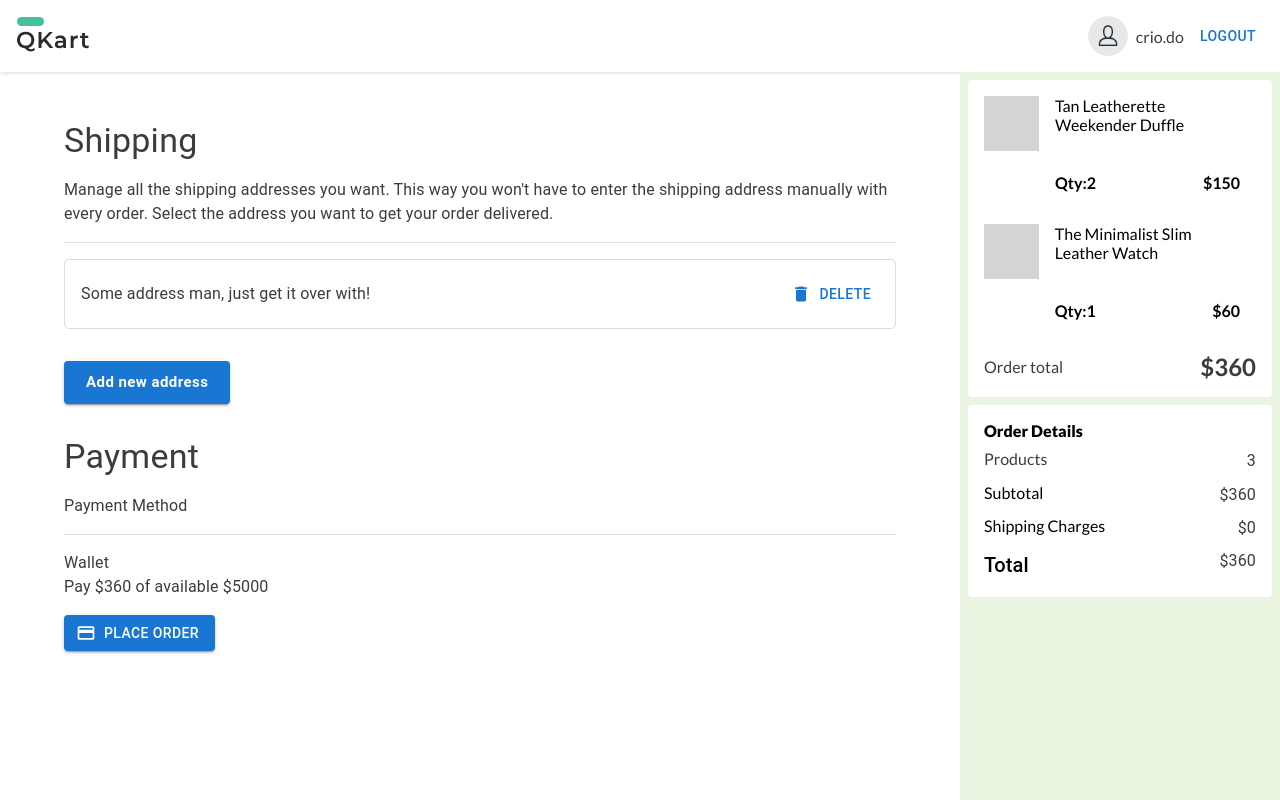
Test: Checkout Page › should show error message if low balance
Click the text "Some address man, just get it over with!" at [226, 294], box [81,282,370,306]
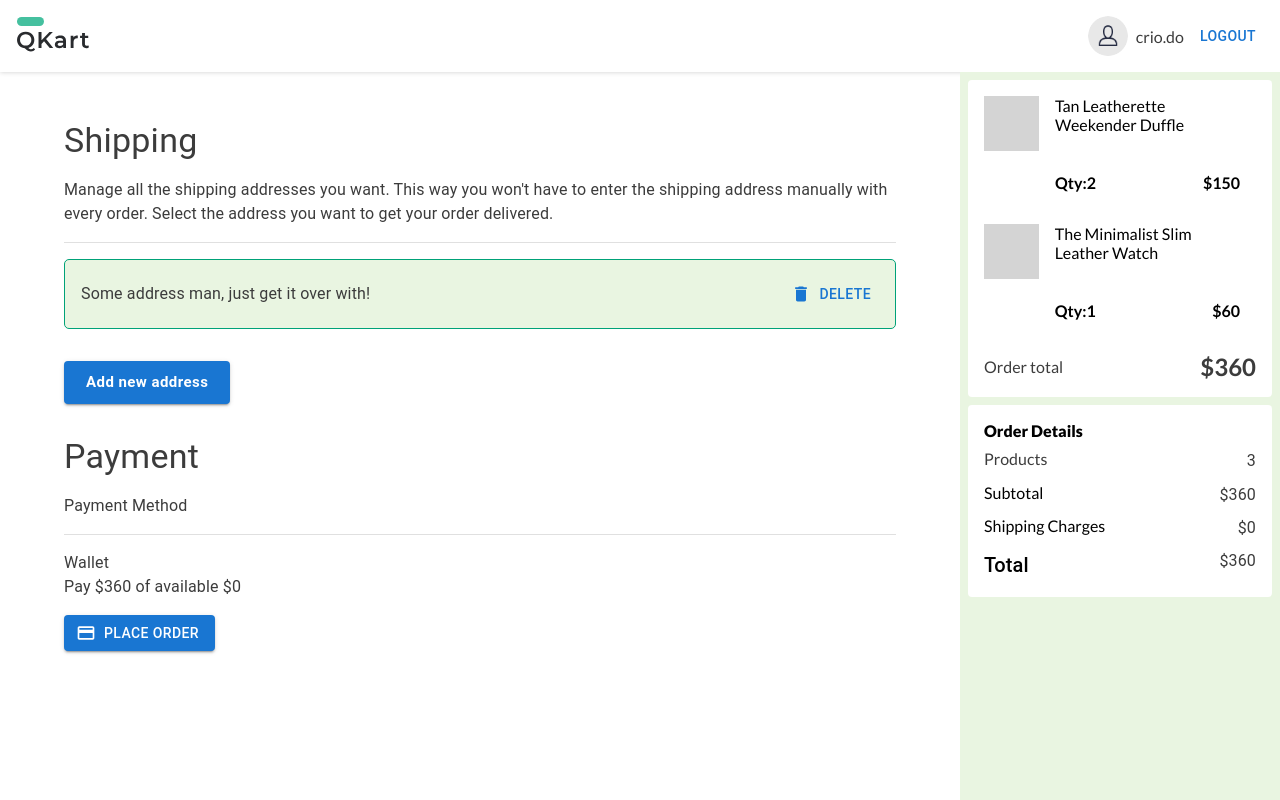
Click the button "PLACE ORDER" at [140, 633], box [64,615,215,651]
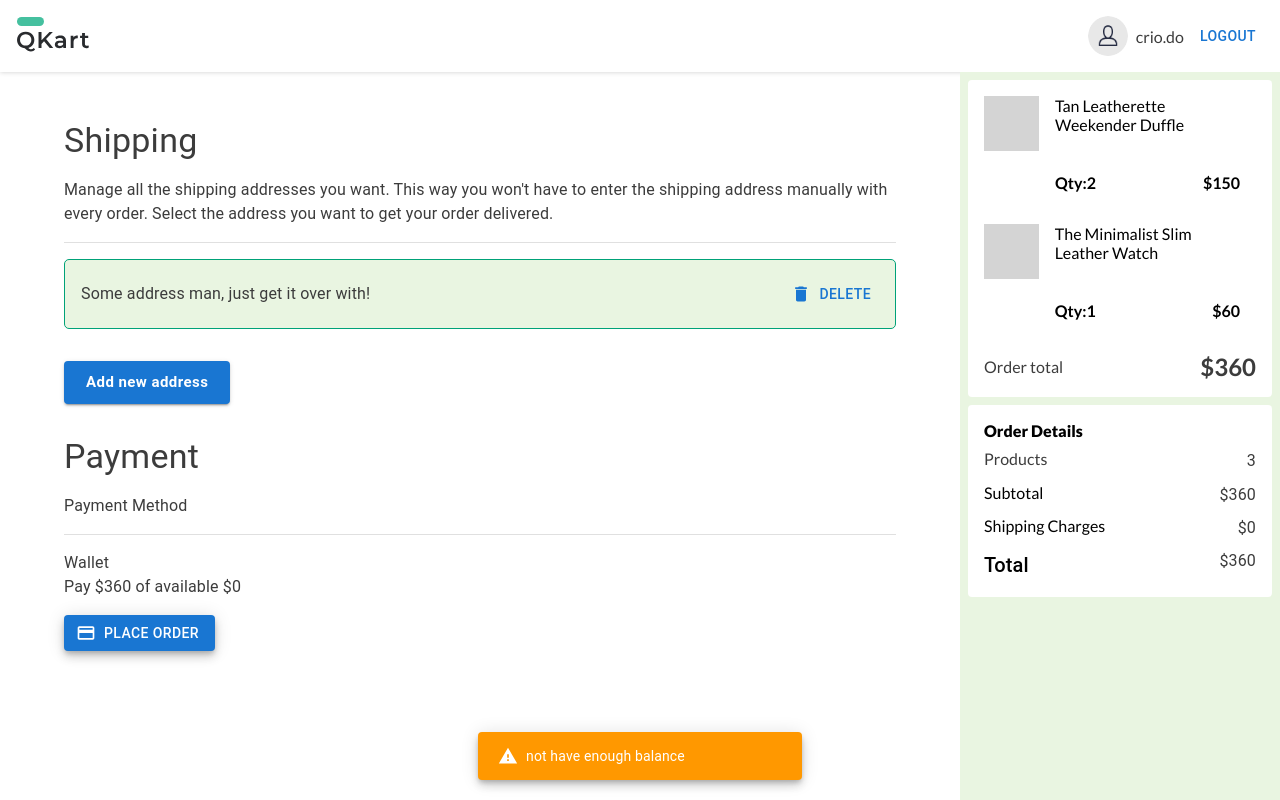
Expected: the message reads "not have enough balance", [526,748,685,764]
